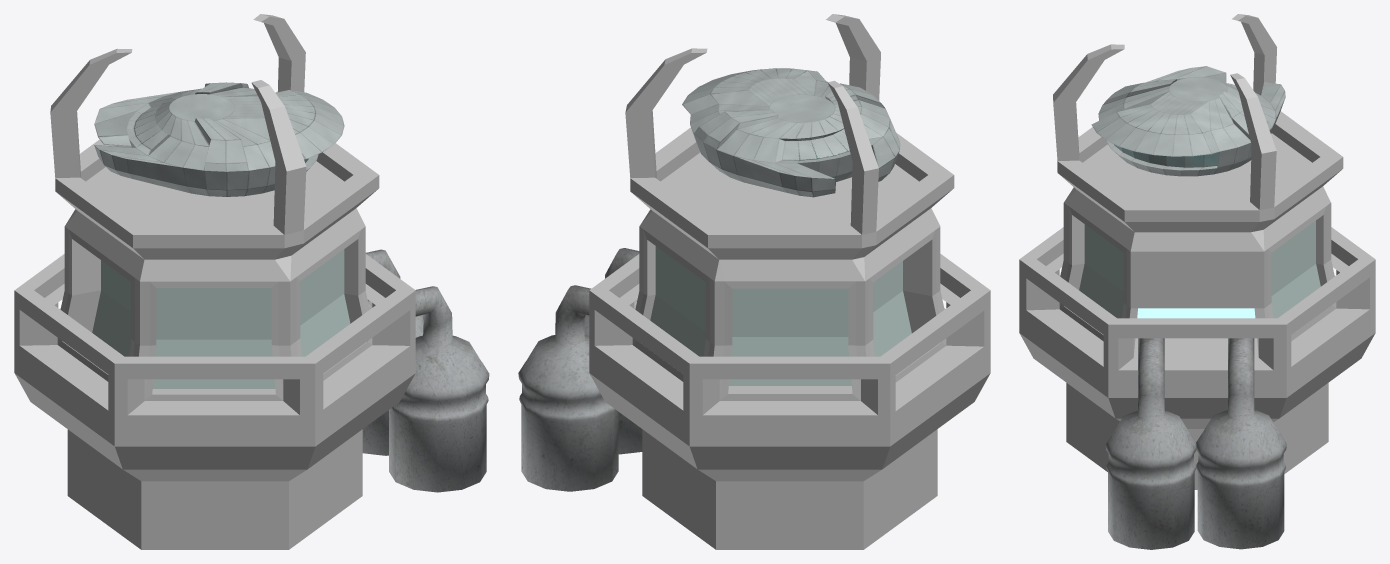
File: baseECONOMY.fbx
3 renders of one model, left to right at view 1: azimuth 30°, elevation 25°; view 2: azimuth 150°, elevation 25°; view 3: azimuth 270°, elevation 25°, orthographic. The views are drawn at different scales.
Parts seen in each view (by area): view 1: Cylinder, Spaceship; view 2: Cylinder, Spaceship; view 3: Cylinder, Spaceship.
Part boxes in pixels (x1=…): Cylinder: x1=14, y1=14, x2=489, y2=549; Spaceship: x1=94, y1=82, x2=344, y2=196; Cylinder: x1=518, y1=14, x2=990, y2=549; Spaceship: x1=682, y1=68, x2=900, y2=197; Cylinder: x1=1019, y1=14, x2=1375, y2=549; Spaceship: x1=1091, y1=66, x2=1285, y2=176.
Size of the model in its own units: 9.29 by 10.18 by 8.23.
